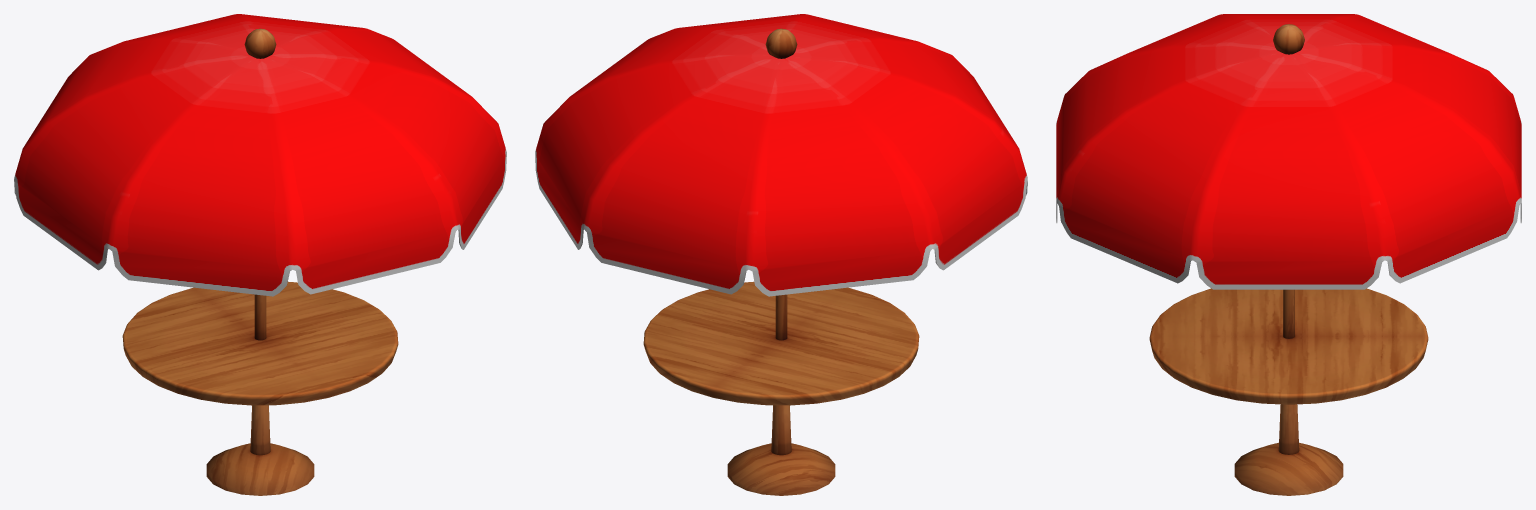
Rendered from StreetCafeSet01_1.FBX.
The picture shows the model from 3 angles, left to right: view 1: azimuth 30°, elevation 25°; view 2: azimuth 150°, elevation 25°; view 3: azimuth 270°, elevation 25°; orthographic projection.
Parts seen in each view (by area): view 1: StreetCafeSet01_1; view 2: StreetCafeSet01_1; view 3: StreetCafeSet01_1.
Boxes of the visible parts, left/top/right/bottom form: StreetCafeSet01_1: left=14, top=14, right=506, bottom=495; StreetCafeSet01_1: left=535, top=14, right=1027, bottom=495; StreetCafeSet01_1: left=1056, top=14, right=1521, bottom=495.
Size of what is drawn, in the model's own units: 2.79 by 2.95 by 2.79.
